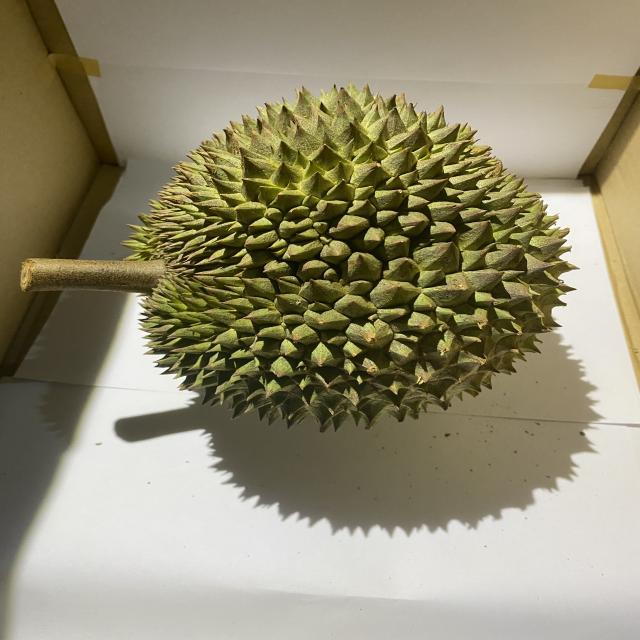immature: (123, 80, 580, 438)
